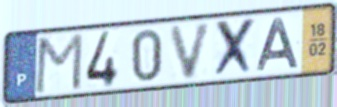0: (129, 27, 166, 84)
4: (84, 29, 121, 90)
A: (255, 16, 302, 73)
M: (32, 31, 85, 96)
V: (168, 19, 216, 82)
X: (211, 15, 258, 80)
